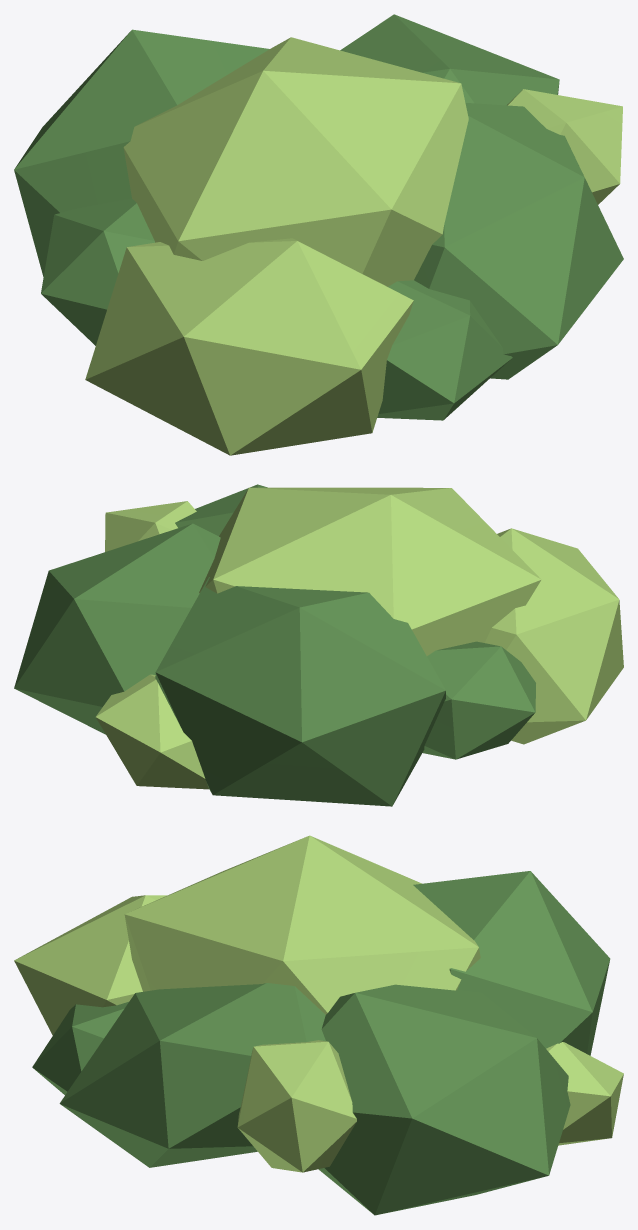
The model's file is Buisson_03.fbx.
The picture shows the model from 3 angles, top to bottom: view 1: azimuth 30°, elevation 25°; view 2: azimuth 150°, elevation 25°; view 3: azimuth 270°, elevation 25°; orthographic projection. The views are drawn at different scales.
Parts seen in each view (by area): view 1: Buisson_03; view 2: Buisson_03; view 3: Buisson_03.
Boxes of the visible parts, x1,y1,x2,y2 form: Buisson_03: (14,14,623,455); Buisson_03: (14,484,623,806); Buisson_03: (14,835,623,1215).
Bounding box in the file's own units: 375 × 197 × 386.
1 material, 1 textured.
